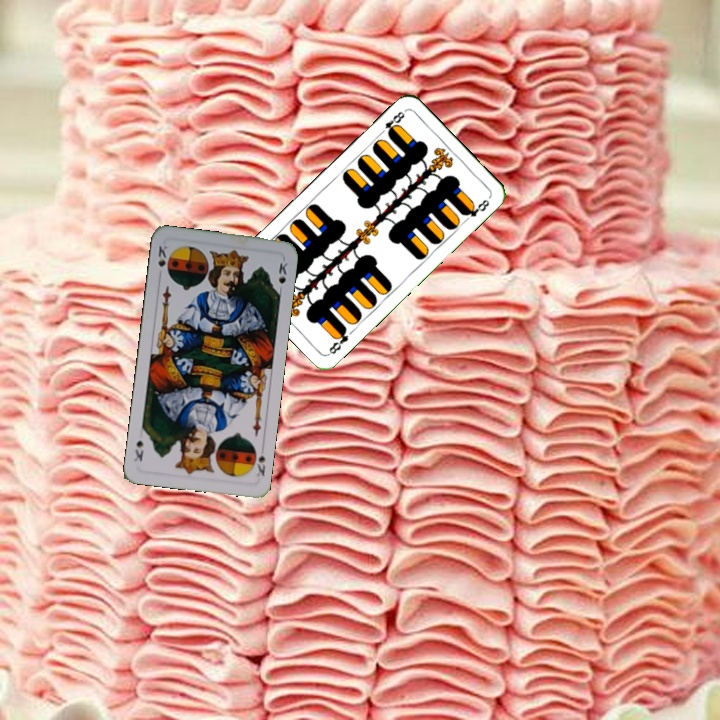E8: (375, 107, 407, 138), (325, 323, 351, 357)
SK: (154, 241, 172, 275), (252, 450, 268, 479)
